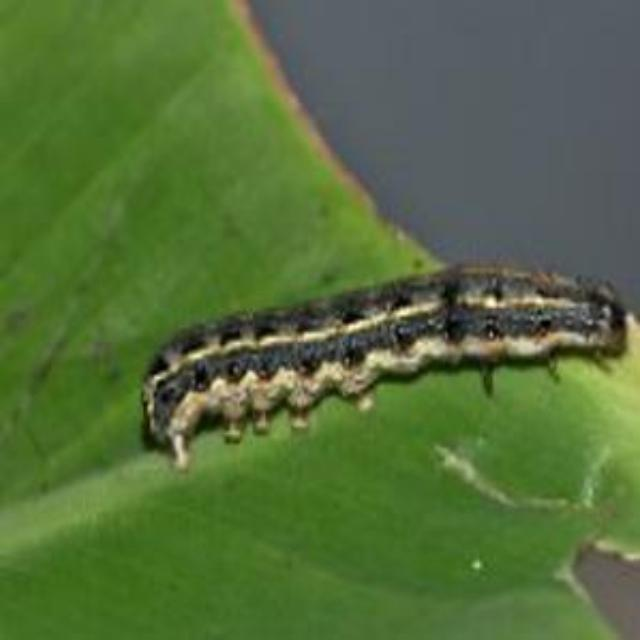Tobacco cutworm: (96, 173, 640, 552)
